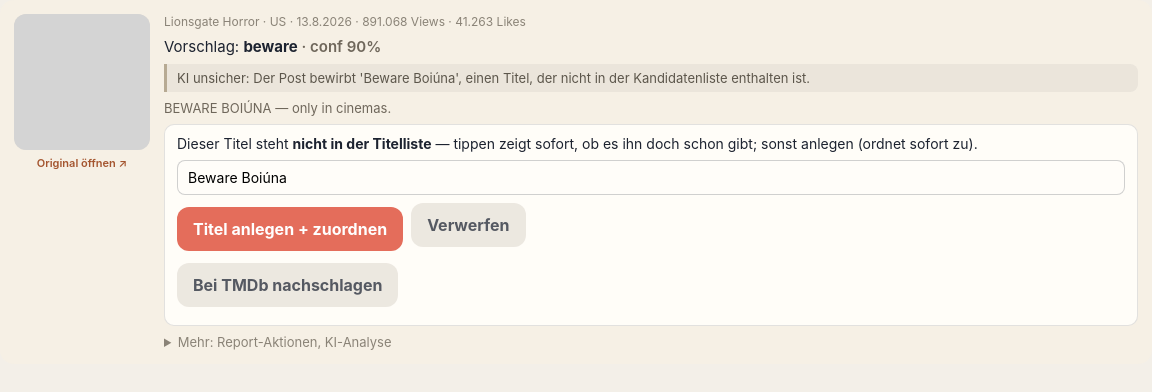
Test: CandidateDecisionCard › TMDb-Auswahl ohne Treffer sagt das, statt leer zu bleiben
Click the button "Bei TMDb nachschlagen": (288, 285) [177, 263, 398, 307]
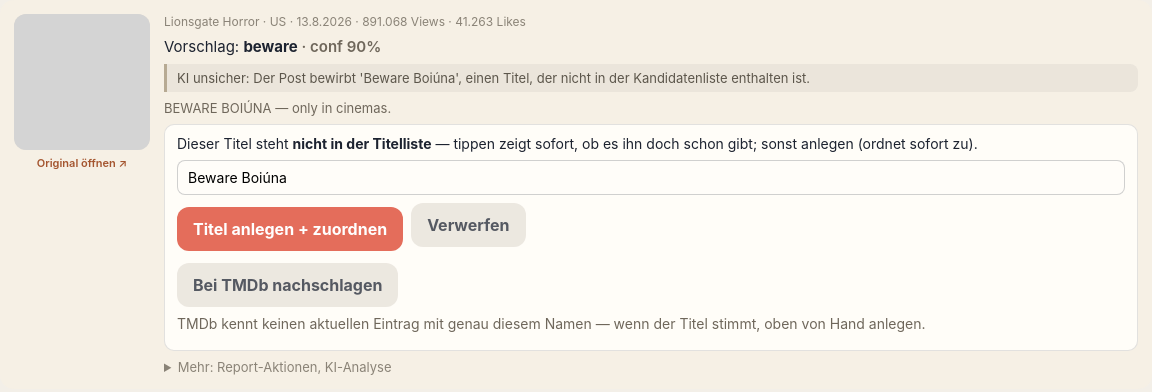
Expected: the text "TMDb kennt keinen aktuellen Eintrag" is shown, [177, 315, 926, 332]
